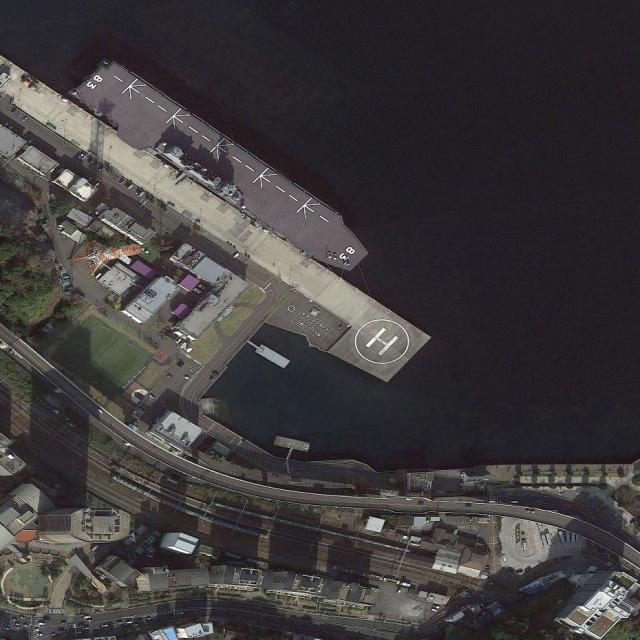Destroyer: (74, 54, 374, 286)
